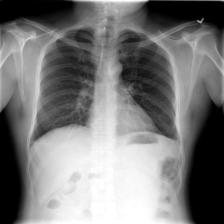normal: (27, 24, 178, 149)
